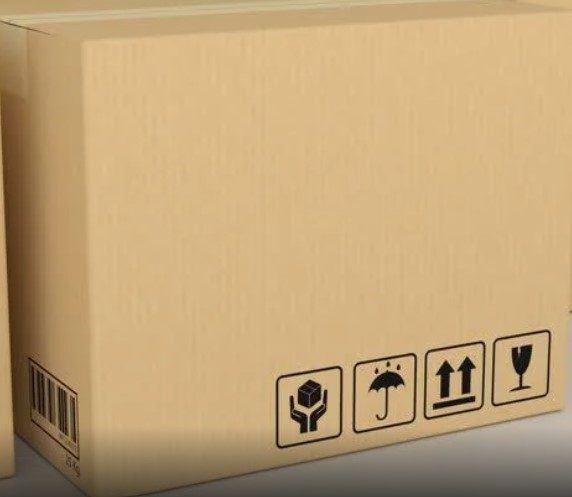stock: (2, 7, 571, 497)
